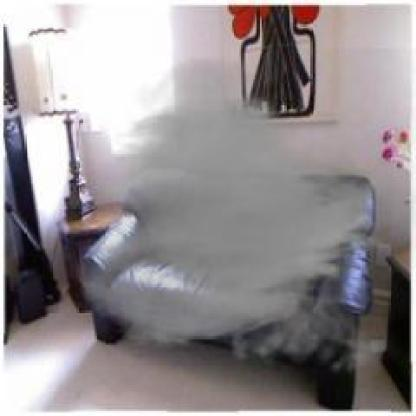Smoke: (73, 48, 414, 386)
